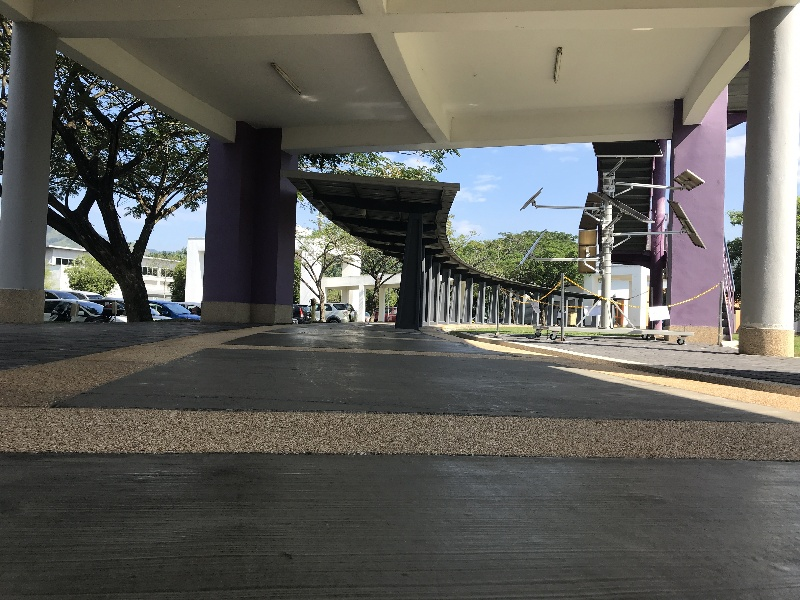Block D Pillar 5: (5, 5, 800, 557)
pillar: (728, 14, 795, 365), (197, 114, 303, 325), (658, 91, 730, 357), (4, 20, 51, 331), (400, 205, 420, 329)
